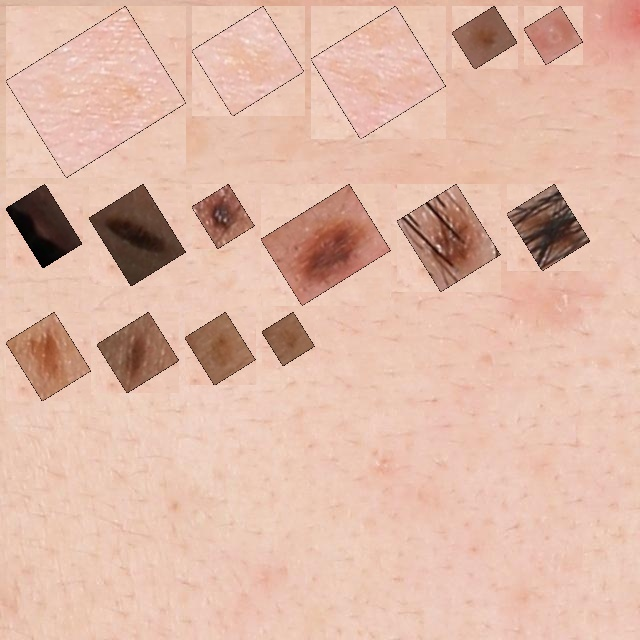melasma: (17, 17, 175, 166), (322, 17, 435, 128), (203, 17, 293, 105), (196, 323, 244, 374), (273, 323, 304, 355)
nevus: (272, 195, 380, 294), (408, 195, 489, 280), (100, 195, 175, 275), (17, 323, 80, 390), (518, 195, 579, 259), (108, 323, 168, 382), (463, 17, 506, 58), (203, 195, 243, 237)
pustule: (17, 195, 71, 257), (535, 17, 572, 53)
